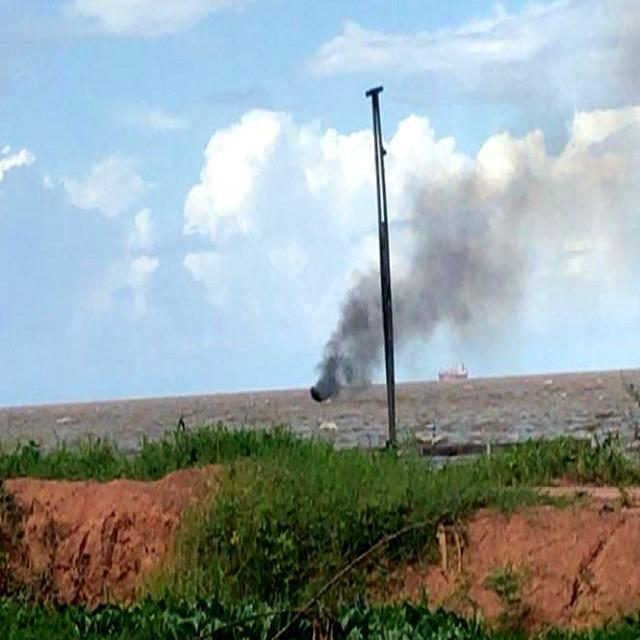Smoke: (316, 148, 558, 394)
